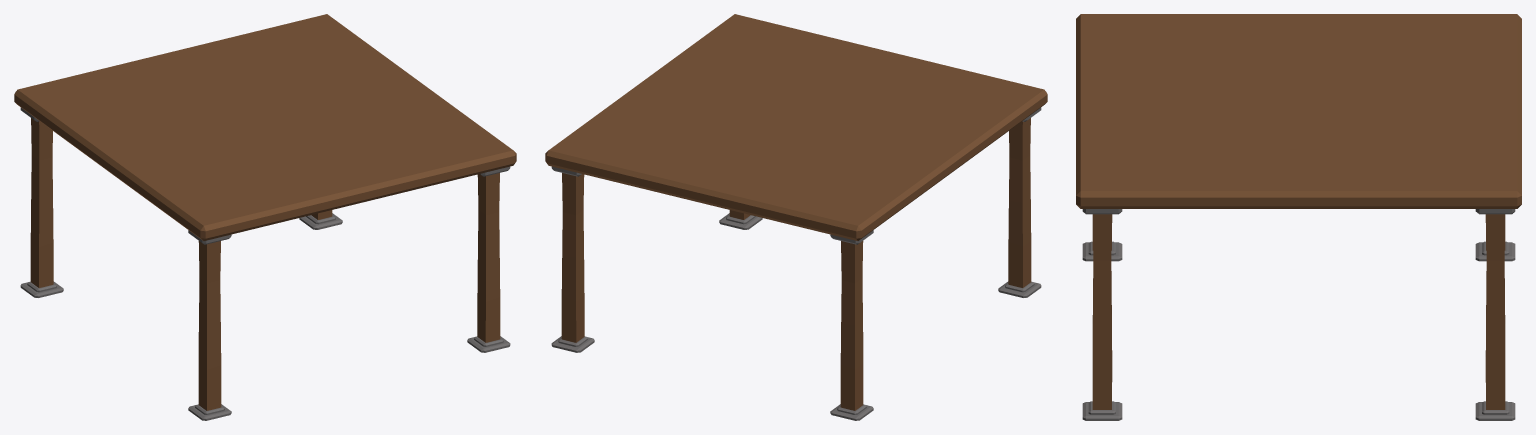
Rendered from wooden_platform.fbx.
3 views of the same model, side by side, from view 1: azimuth 30°, elevation 25°; view 2: azimuth 150°, elevation 25°; view 3: azimuth 270°, elevation 25° (orthographic). The views are drawn at different scales.
Visible parts, largest first — view 1: WoodenPlatform; view 2: WoodenPlatform; view 3: WoodenPlatform.
Boxes of the visible parts, x1,y1,x2,y2 form: WoodenPlatform: (14, 14, 516, 420); WoodenPlatform: (545, 14, 1047, 420); WoodenPlatform: (1076, 14, 1521, 420).
Bounding box in the file's own units: 544 × 323 × 567.
